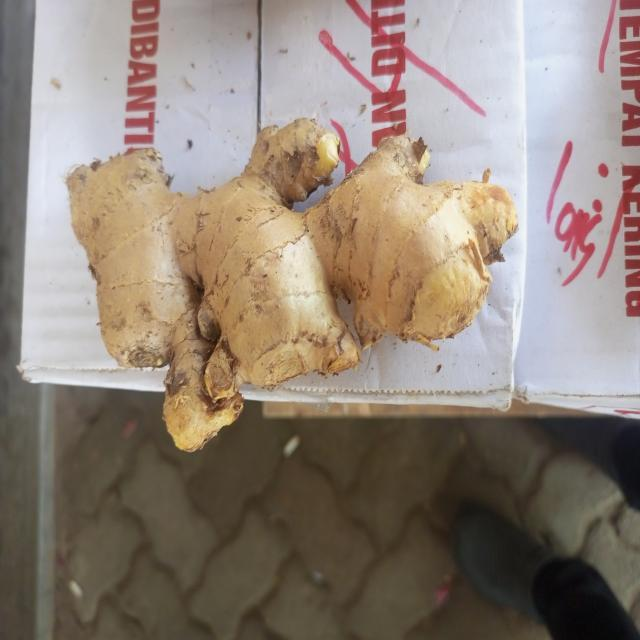ginger: (70, 123, 511, 430)
